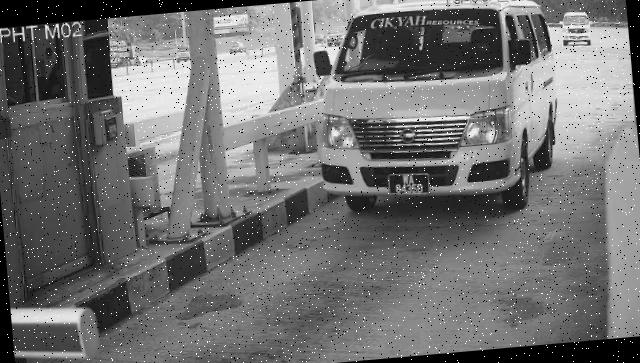License_Plate: (387, 171, 432, 201)
van: (307, 1, 568, 227)
